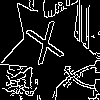X: (24, 20, 70, 75)
